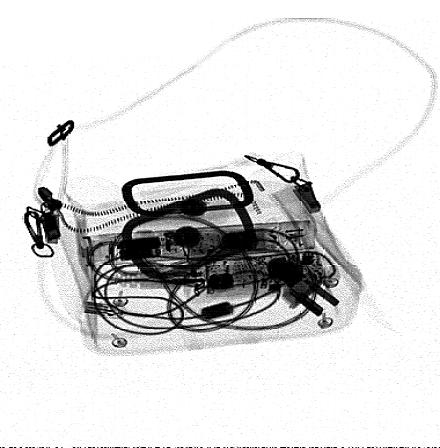Baton: (79, 218, 317, 267)
